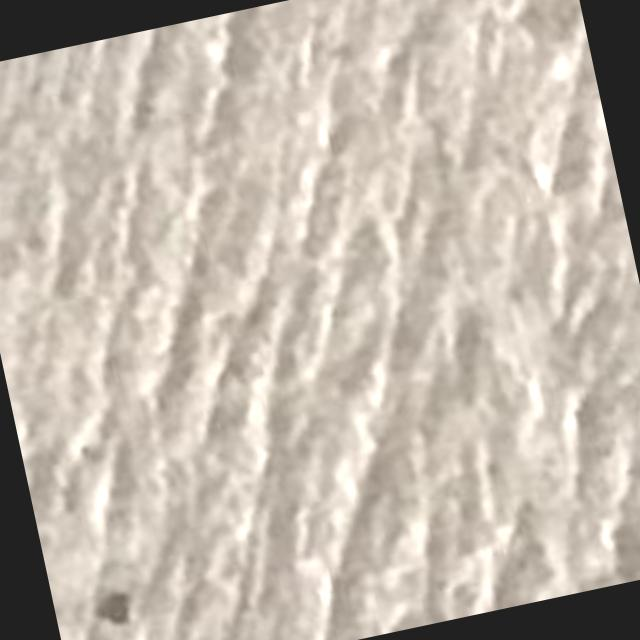peeling plaster: (98, 591, 131, 624)
